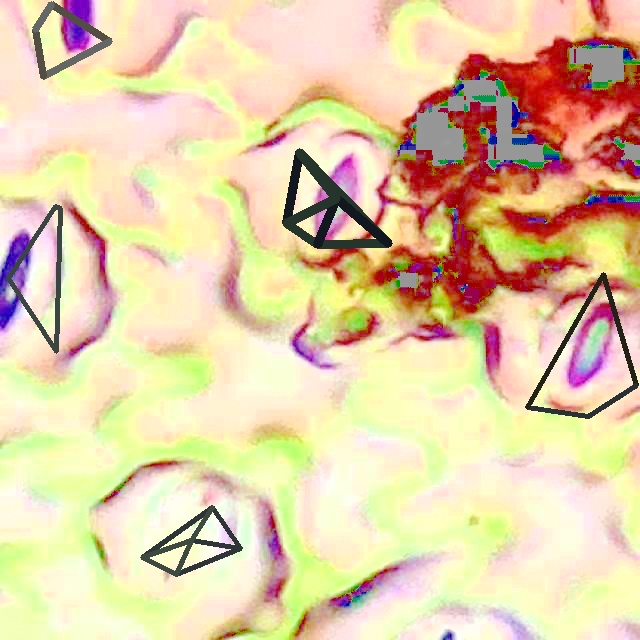close: (140, 505, 242, 576)
open: (525, 272, 638, 418), (282, 148, 391, 247), (6, 204, 62, 353), (32, 1, 112, 79)
